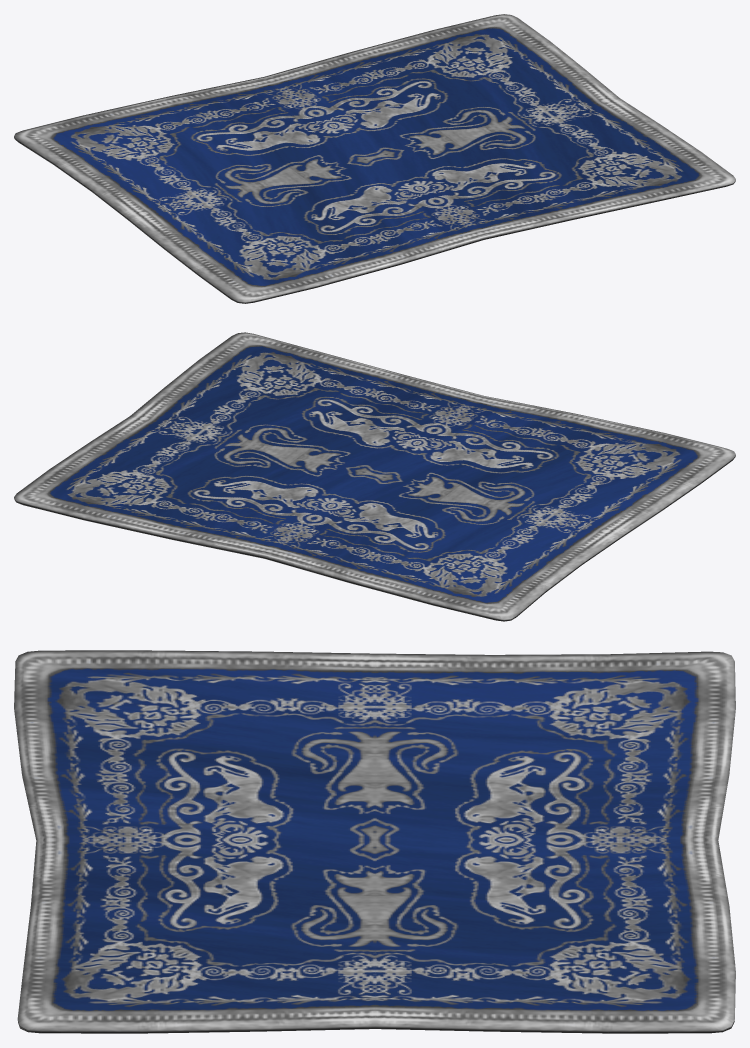
The model's file is EmpressCarpet_HD.fbx.
3 views of the same model, one above another, from view 1: azimuth 30°, elevation 25°; view 2: azimuth 150°, elevation 25°; view 3: azimuth 270°, elevation 25° (orthographic). The views are drawn at different scales.
Parts seen in each view (by area): view 1: EmpressCarpet; view 2: EmpressCarpet; view 3: EmpressCarpet.
Part boxes in pixels (bbox=[...]): EmpressCarpet: bbox=[14, 14, 735, 303]; EmpressCarpet: bbox=[14, 332, 735, 621]; EmpressCarpet: bbox=[14, 650, 735, 1033].
Size of the model in its own units: 2.31 by 0.0136 by 1.86.
